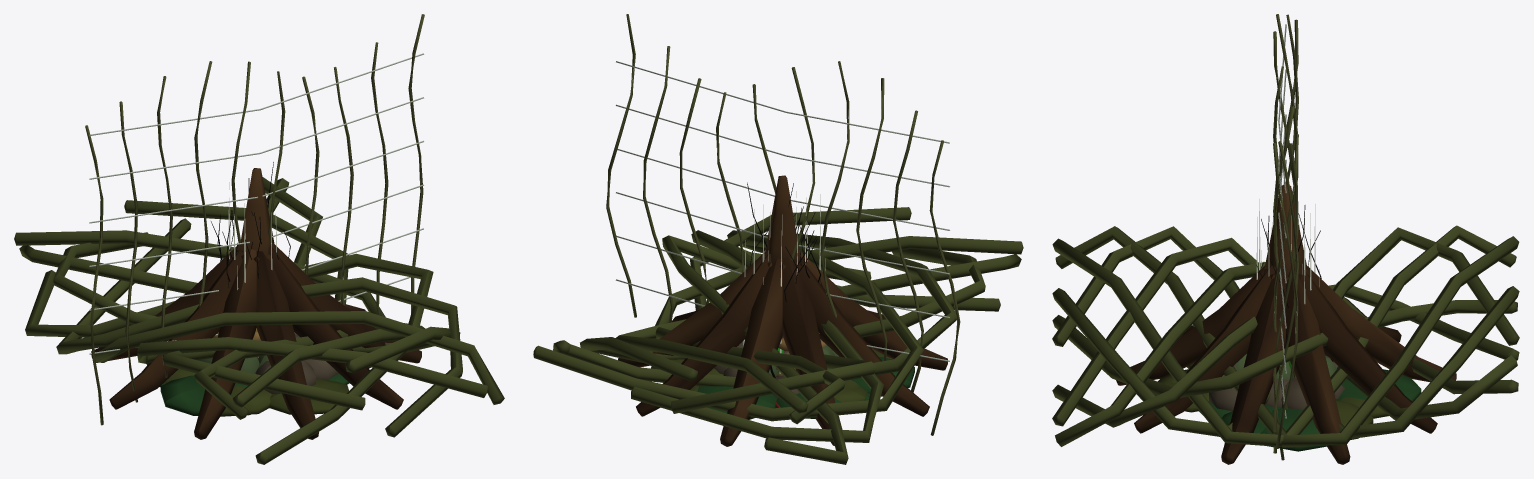
File: flora_kelp.glb
The picture shows the model from 3 angles, left to right: view 1: azimuth 30°, elevation 25°; view 2: azimuth 150°, elevation 25°; view 3: azimuth 270°, elevation 25°; orthographic projection. The views are drawn at different scales.
Visible parts, largest first — view 1: canopy_vines, root_kelp, tangle_vines, strand_lace, latch_moss, vascular_moss, silt_spongeweed, shadow_tendril; view 2: canopy_vines, root_kelp, tangle_vines, strand_lace, vascular_moss, latch_moss, shadow_tendril, spindle_tendril; view 3: canopy_vines, root_kelp, tangle_vines, vascular_moss, silt_spongeweed, strand_lace, latch_moss, spindle_tendril.
Part boxes in pixels (x1,y1,x2,y2): canopy_vines: [14, 177, 504, 464]; root_kelp: [91, 168, 421, 439]; tangle_vines: [85, 14, 424, 425]; strand_lace: [89, 53, 423, 354]; latch_moss: [165, 369, 348, 416]; vascular_moss: [146, 363, 370, 415]; silt_spongeweed: [255, 332, 338, 394]; shadow_tendril: [211, 162, 290, 287]; canopy_vines: [533, 207, 1023, 464]; root_kelp: [618, 175, 947, 446]; tangle_vines: [606, 14, 960, 435]; strand_lace: [607, 61, 949, 361]; vascular_moss: [697, 357, 914, 419]; latch_moss: [651, 348, 893, 402]; shadow_tendril: [738, 182, 822, 377]; spindle_tendril: [742, 191, 825, 373]; canopy_vines: [1052, 225, 1519, 447]; root_kelp: [1116, 184, 1456, 464]; tangle_vines: [1273, 14, 1298, 460]; vascular_moss: [1199, 369, 1421, 451]; silt_spongeweed: [1209, 355, 1344, 411]; strand_lace: [1274, 24, 1297, 418]; latch_moss: [1155, 363, 1388, 439]; spindle_tendril: [1256, 199, 1319, 303].
Size of the model in its own units: 2.88 by 2.8 by 3.29.
